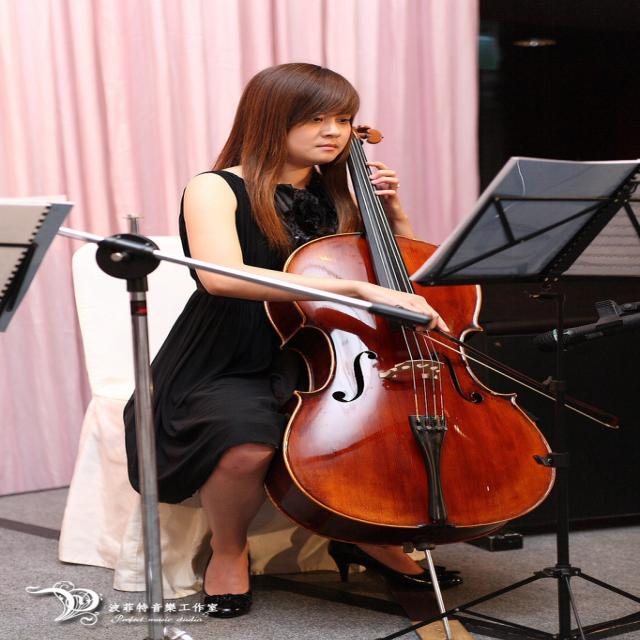cello: (259, 120, 567, 548)
